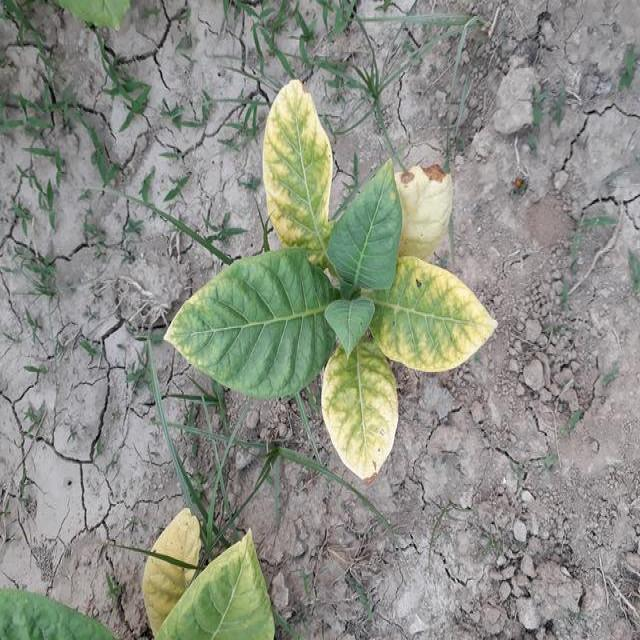crop: (174, 104, 503, 473), (124, 521, 279, 640), (0, 592, 119, 640), (60, 0, 141, 33)
